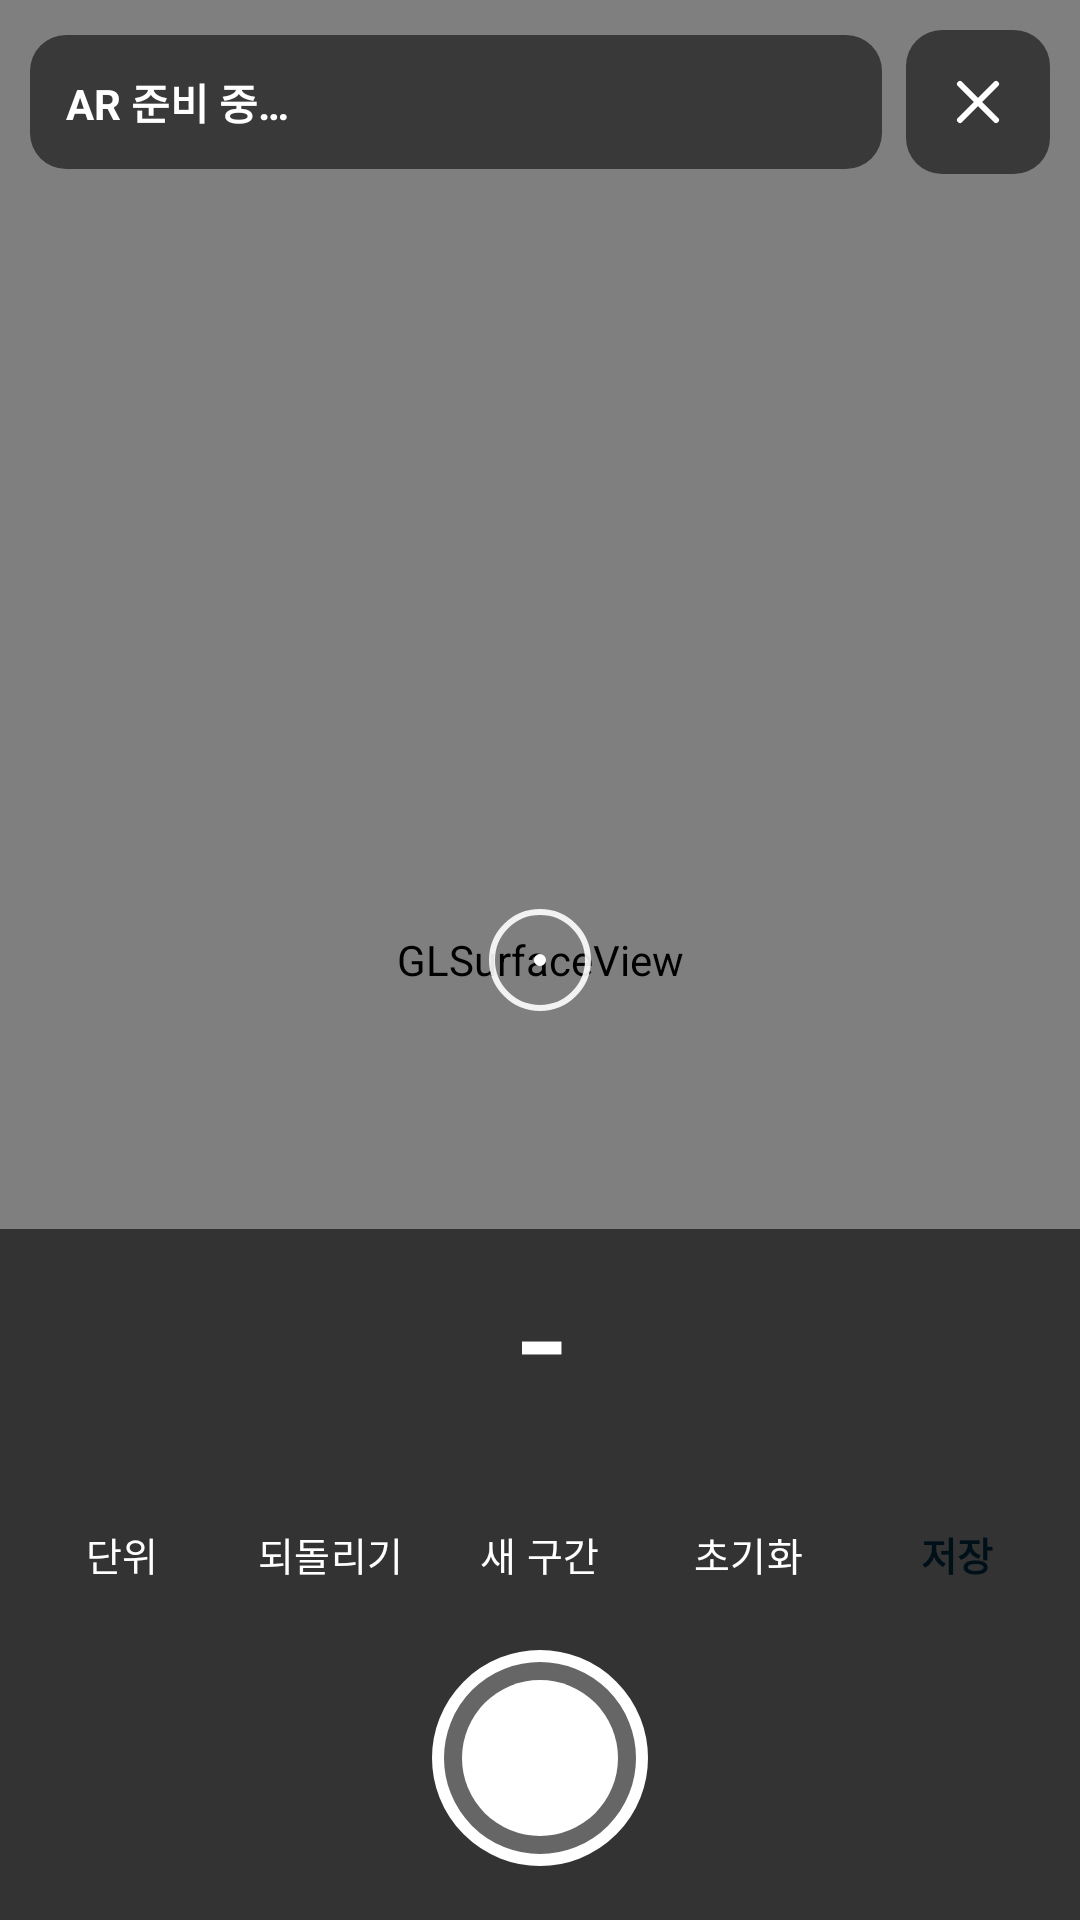

Icon click points for this 1080*1920 phone screenshot, format (x,y):
crosshair: (540,960)
닫기: (978,102)
